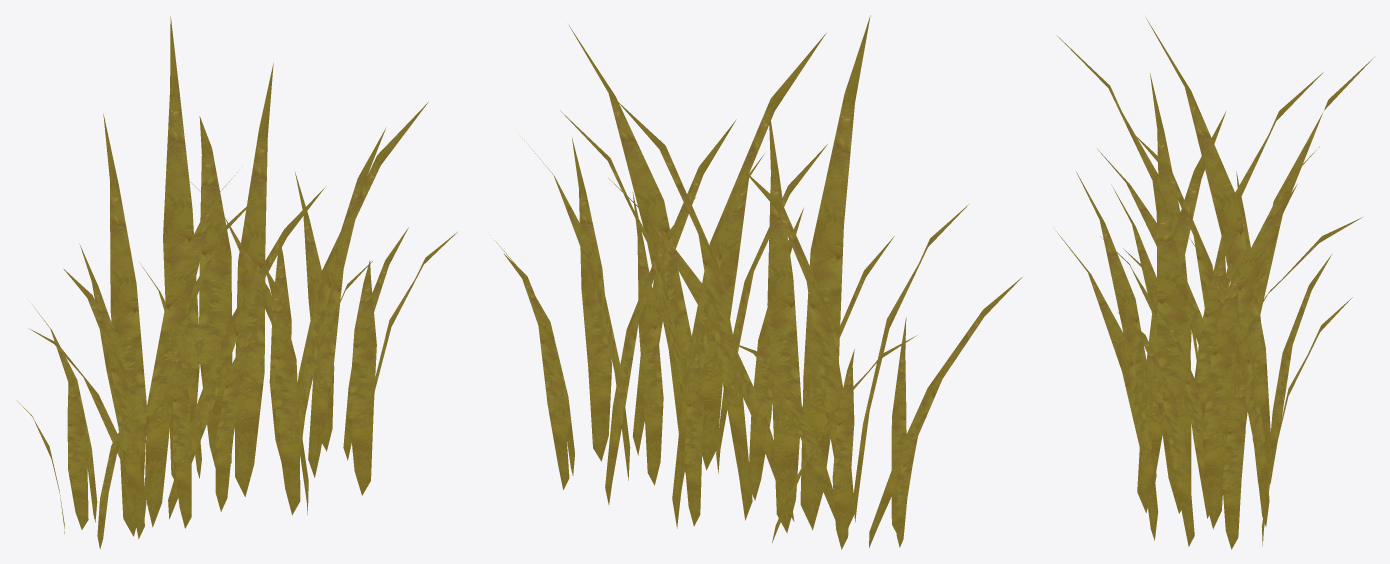
The model's file is SM_GrassClump02.glb.
The picture shows the model from 3 angles, left to right: view 1: azimuth 30°, elevation 25°; view 2: azimuth 150°, elevation 25°; view 3: azimuth 270°, elevation 25°; orthographic projection. The views are drawn at different scales.
Parts seen in each view (by area): view 1: SM_GrassClump02_LOD0; view 2: SM_GrassClump02_LOD0; view 3: SM_GrassClump02_LOD0.
Part boxes in pixels (x1,y1,x2,y2): SM_GrassClump02_LOD0: [17, 16, 457, 549]; SM_GrassClump02_LOD0: [490, 15, 1022, 549]; SM_GrassClump02_LOD0: [1054, 18, 1374, 549].
Bounding box in the file's own units: 0.8117 × 0.8035 × 0.5253.
Materials: 1 (1 with a texture image).
